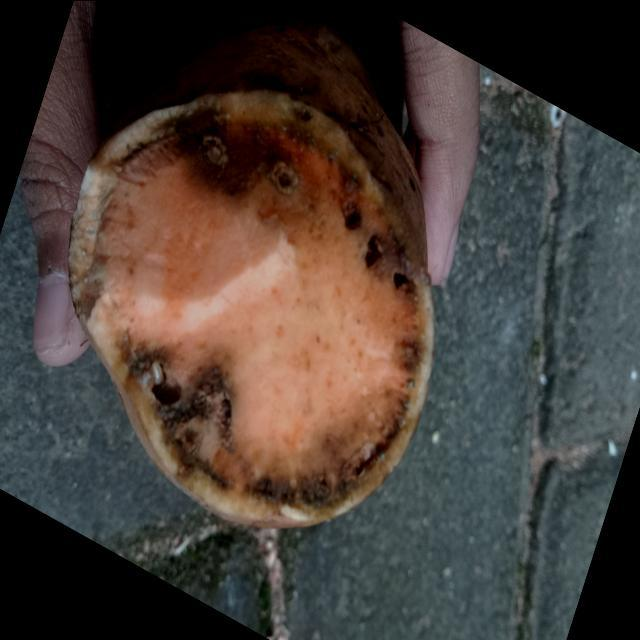Sick Sweet Potato_Tuber Rot: (70, 87, 434, 527)
